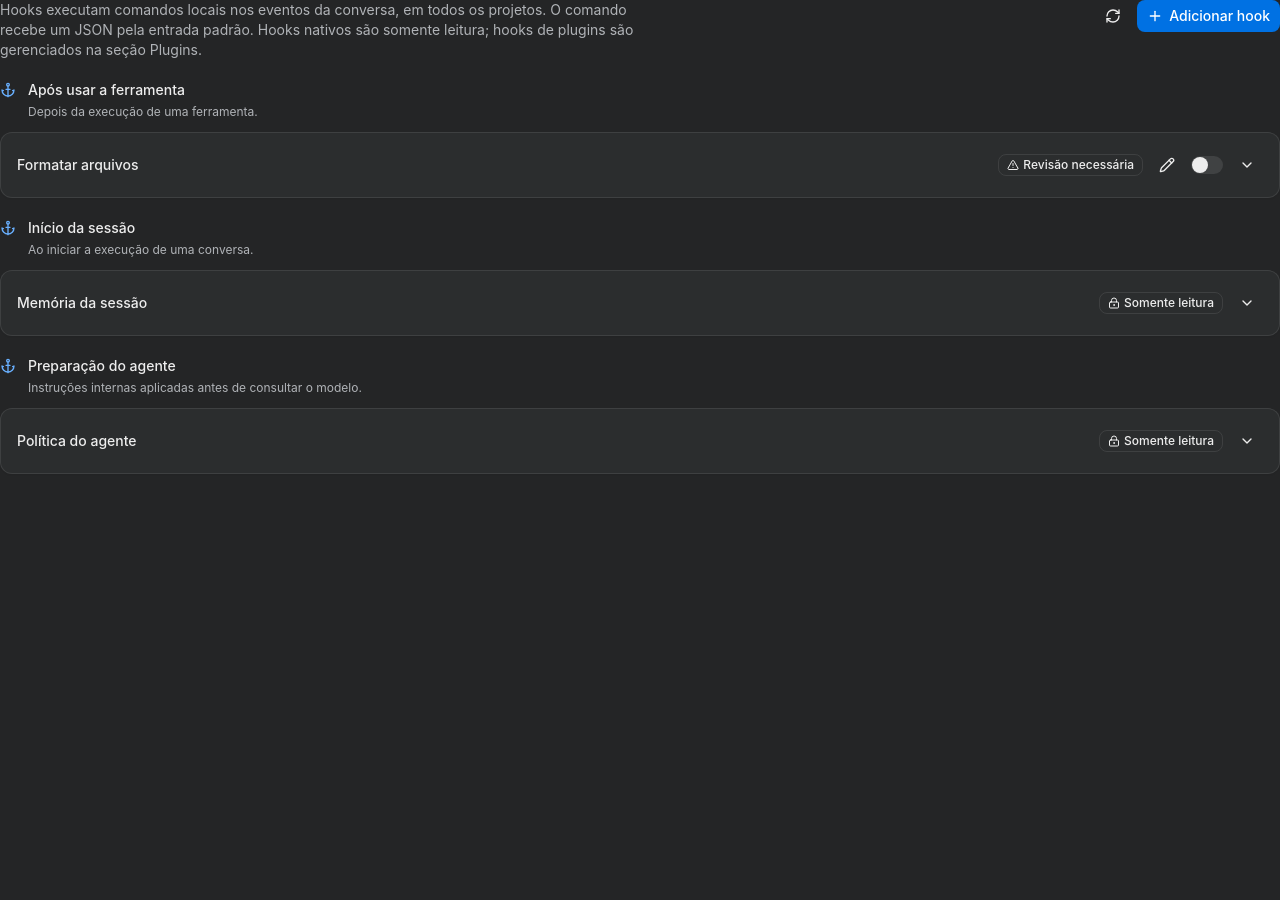
Scenario: HooksSettings › marks externally changed hooks for review and saves explicit approval before enabling
The width and height of the screenshot is (1280, 900).
expect the switch named "Revisar e ativar hook Formatar arquivos" is not checked: met, box [1191,156,1223,174]
expect the text "Revisão necessária" is shown: met, box [998,154,1143,176]
Click the button named "Detalhes do hook Formatar arquivos" at {"x": 1247, "y": 165}, box [1231,149,1263,181]
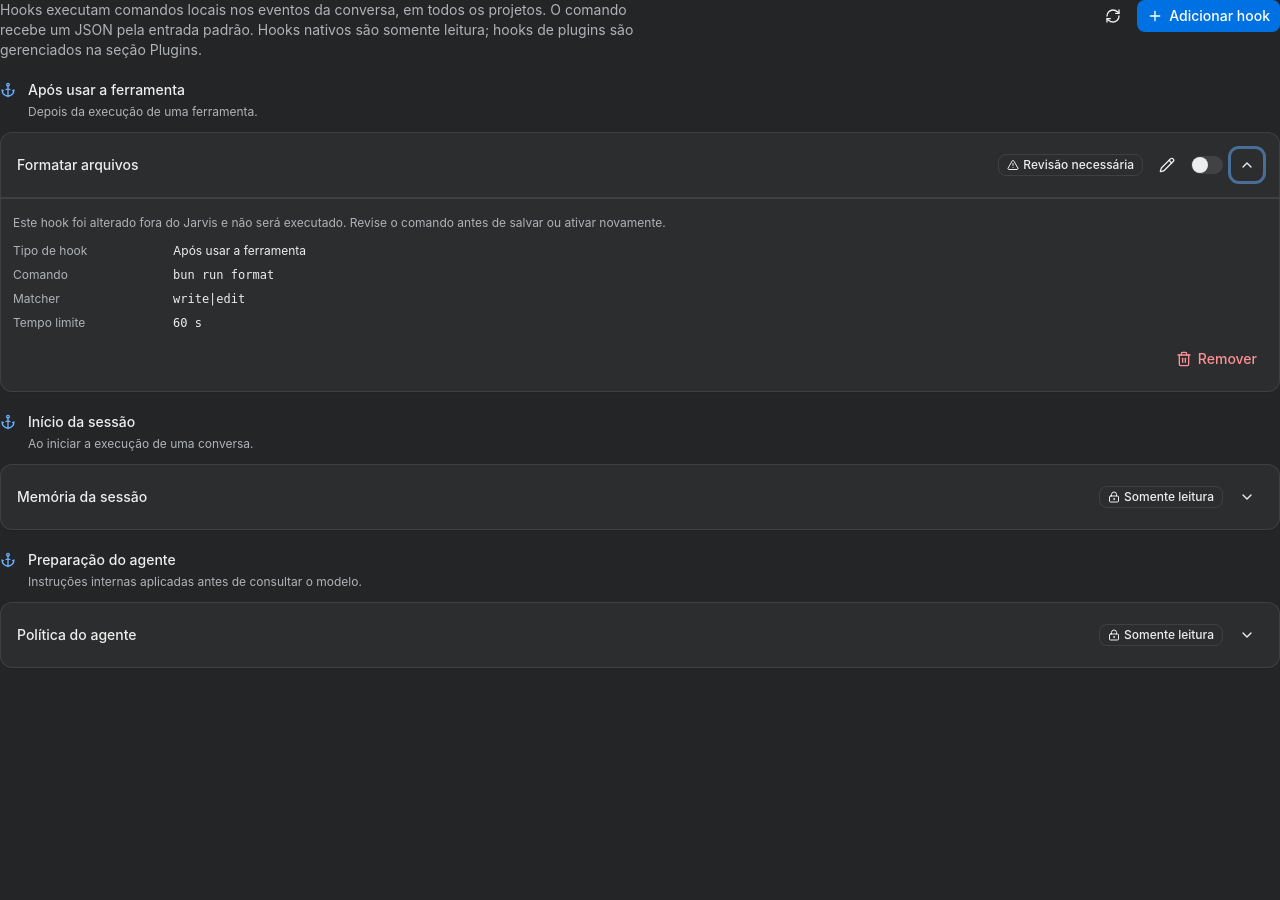
expect the text "alterado fora do Jarvis" is shown: met, box [13,215,666,230]
Click the switch named "Revisar e ativar hook Formatar arquivos" at {"x": 1207, "y": 165}, box [1191,156,1223,174]
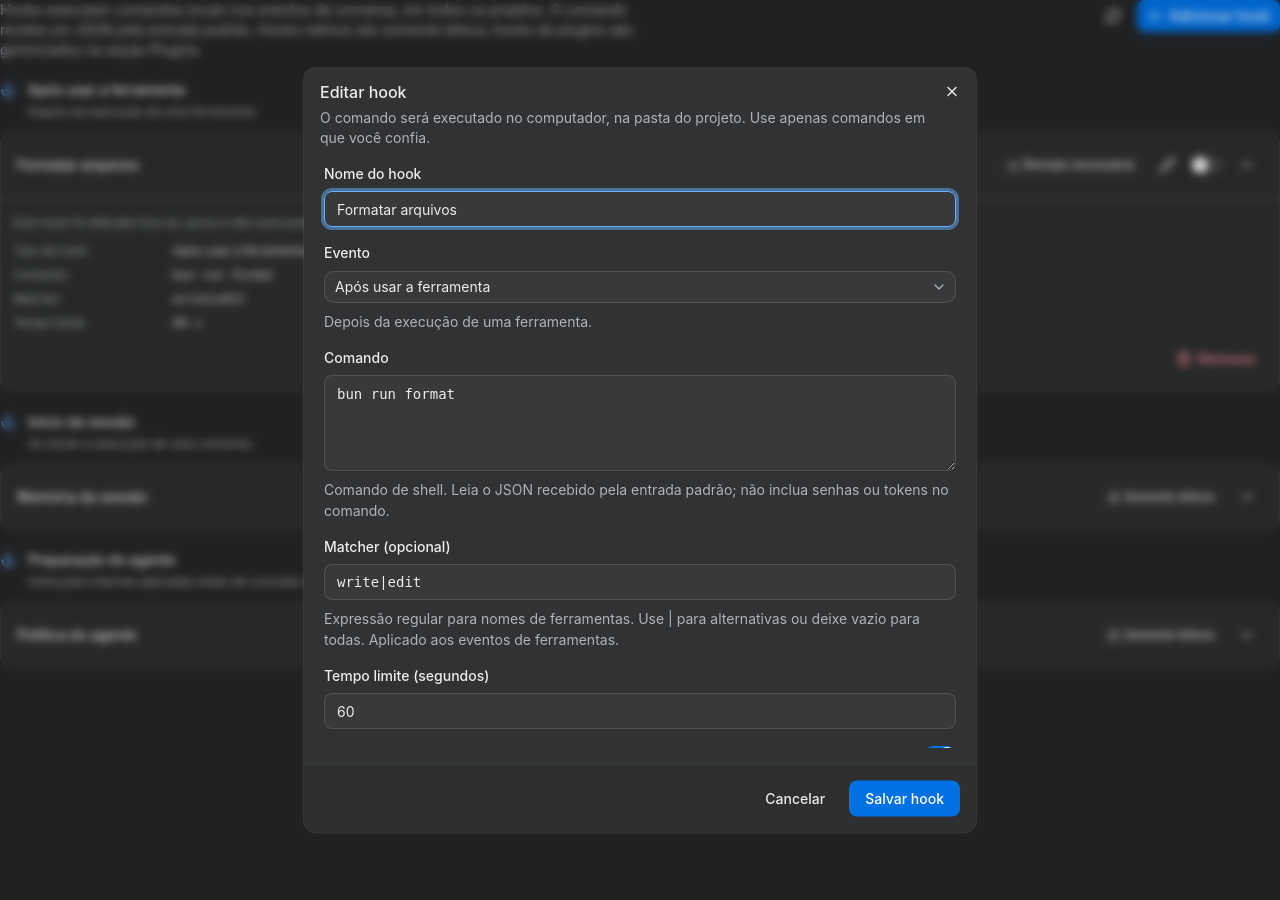
expect the text box labelled "Comando" holds "bun run format": met, box [324,374,956,470]
Click the button "Salvar hook" at {"x": 905, "y": 798}, box [849,780,960,816]
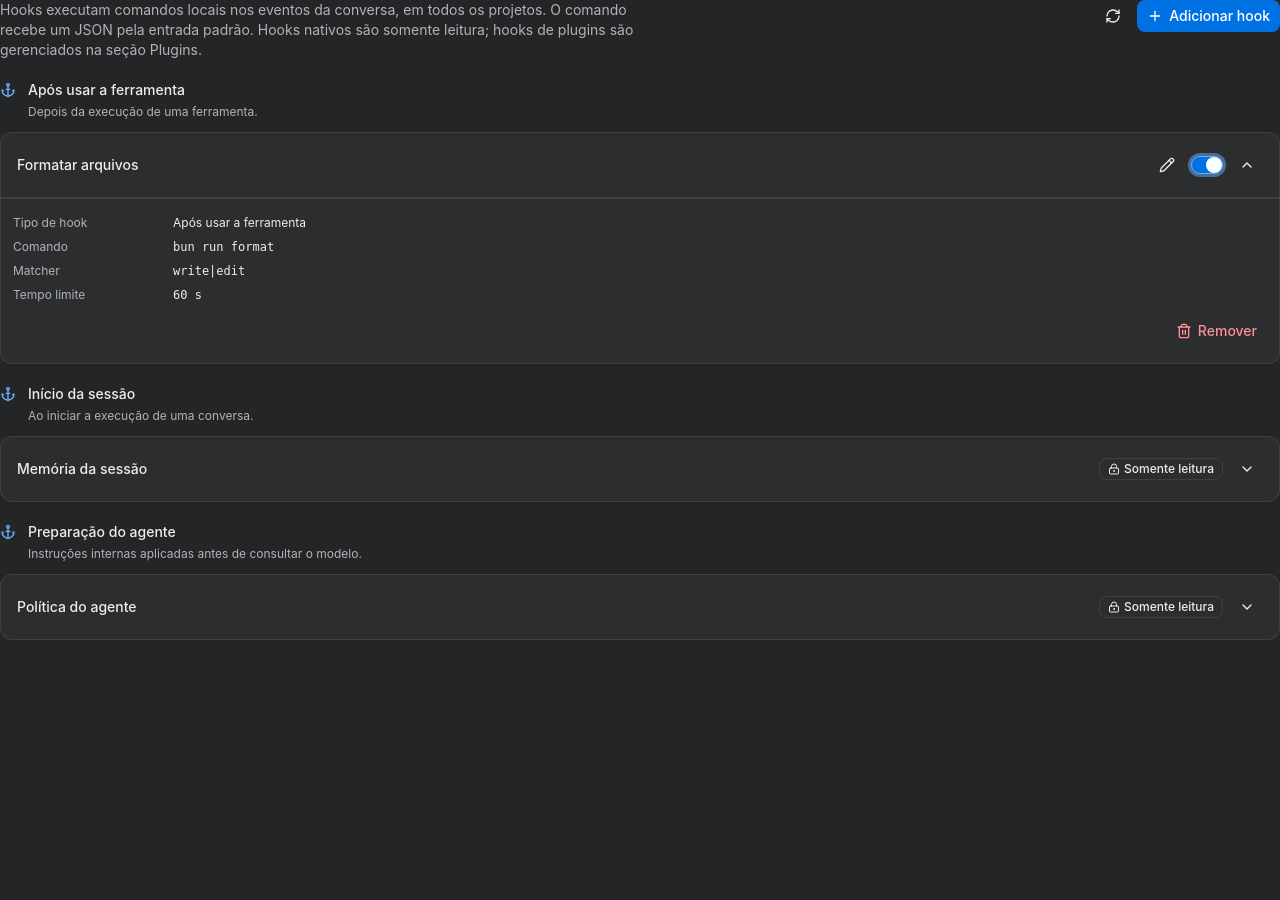
expect the switch named "Ativar hook Formatar arquivos" is checked: met, box [1191,156,1223,174]
expect the text "Revisão necessária" is gone: met
